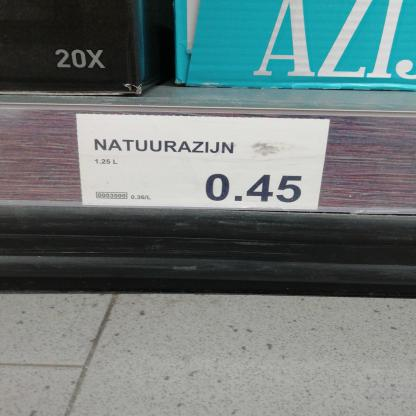prtg: (76, 115, 331, 211)
